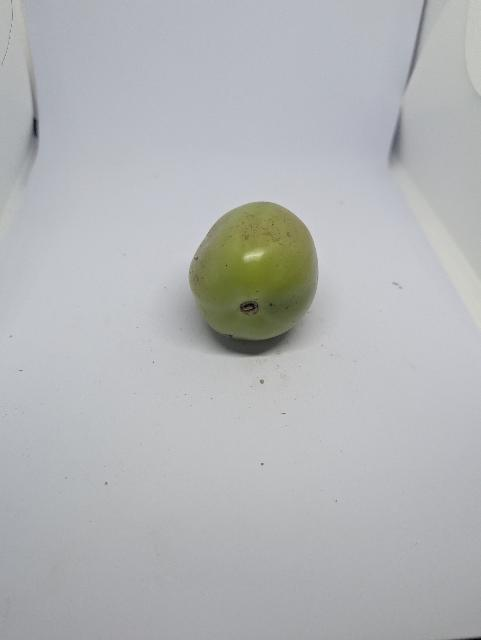green: (187, 198, 323, 343)
